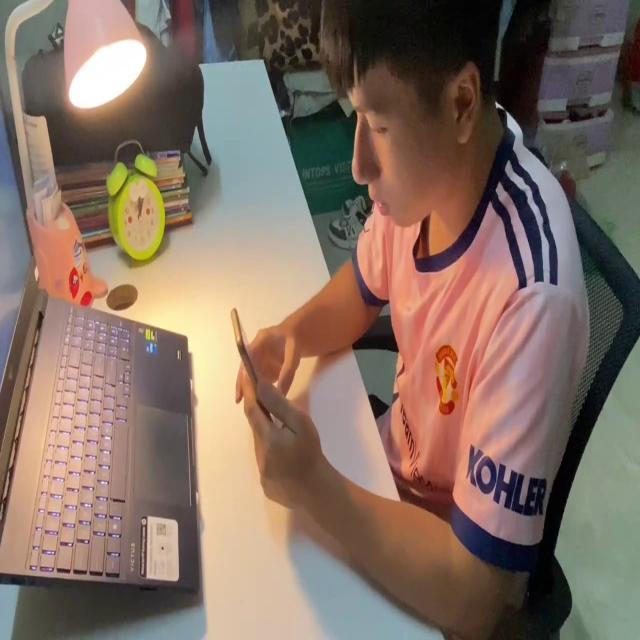laptop: (0, 90, 203, 605)
phone: (230, 299, 278, 434)
student: (234, 0, 589, 640)
